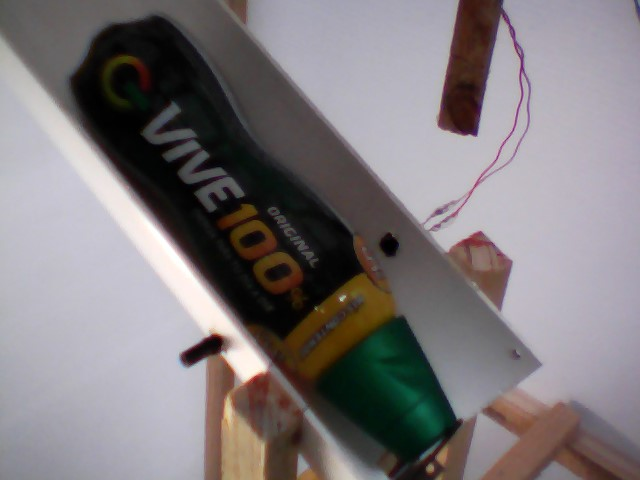plastico: (56, 7, 467, 458)
